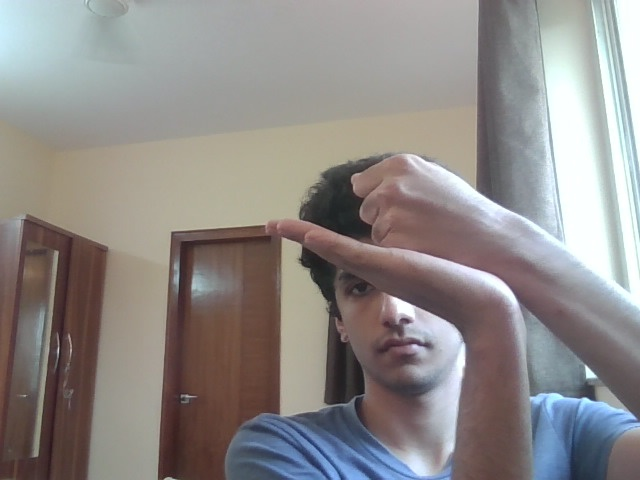Help: (264, 153, 548, 329)
